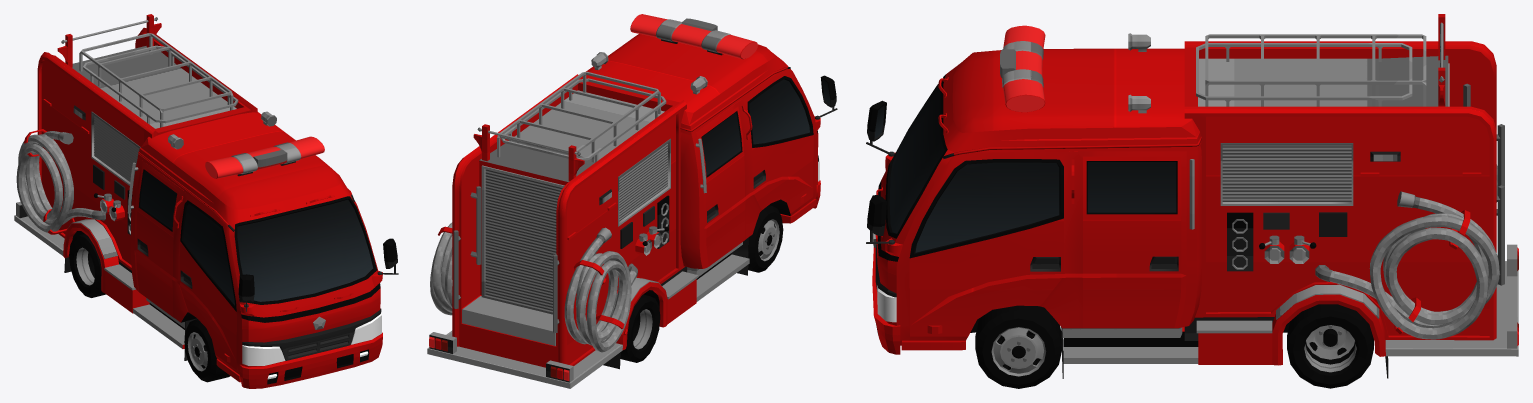
File: Simple_Japanese_Car_V13.fbx
3 renders of one model, left to right at view 1: azimuth 30°, elevation 25°; view 2: azimuth 150°, elevation 25°; view 3: azimuth 270°, elevation 25°, orthographic. The views are drawn at different scales.
Parts seen in each view (by area): view 1: Body, RR, FR; view 2: Body, RR, FR; view 3: Body, FL.010, RL.
Boxes of the visible parts, x1=… form: Body: x1=14, y1=14, x2=398, y2=388; RR: x1=69, y1=234, x2=106, y2=297; FR: x1=184, y1=319, x2=230, y2=382; Body: x1=427, y1=14, x2=837, y2=388; RR: x1=620, y1=294, x2=660, y2=362; FR: x1=748, y1=205, x2=783, y2=272; Body: x1=866, y1=14, x2=1518, y2=378; FL.010: x1=975, y1=305, x2=1062, y2=388; RL: x1=1287, y1=304, x2=1373, y2=388.
Size of the model in its own units: 1.85 by 2.52 by 4.92.
2 materials, 2 textured.
